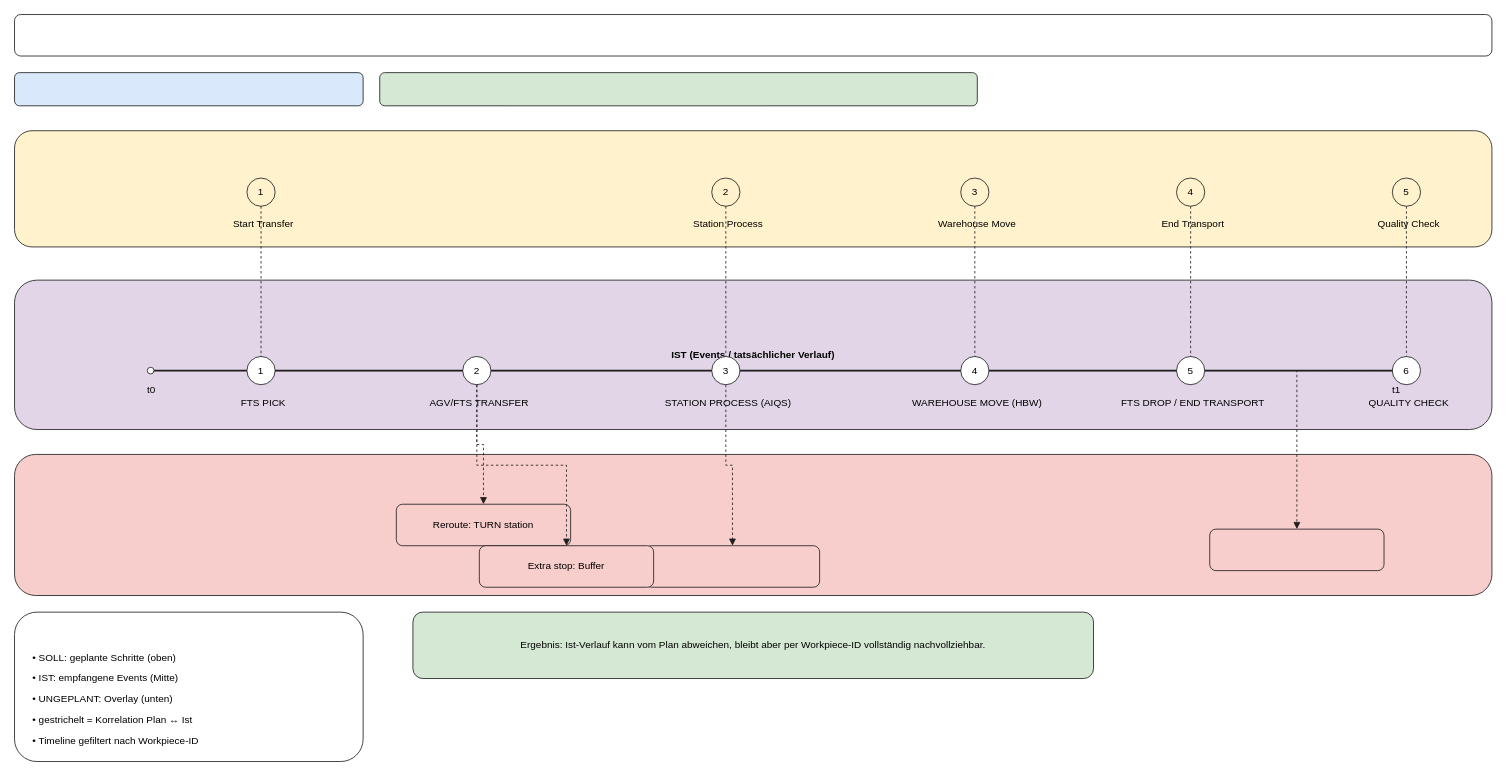
Image size: 1506x776. Some labels were removed from this diagram. The shapes that lost their labels are listed below. From the top down, each one's box as (x1, y1, x2, y2) in pixels, then its label:
(14, 14, 1492, 56): Track & Trace — Soll/Ist Timeline (Event-Overlay)
(14, 72, 363, 106): Workpiece-ID / NFC: A5873A2-A4525
(379, 72, 977, 106): Context (Beispiele): ProductionOrder • TransportOrder • StorageOrder
(14, 130, 1492, 247): SOLL (Plan / erwartete Schritte)
(14, 454, 1492, 596): UNGEPLANT (Overlay: Umwege, Störungen, Rework)
(644, 545, 820, 587): Delay / Wait (15s)
(1209, 528, 1384, 571): Rework loop (optional)
(14, 611, 363, 762): Legende
